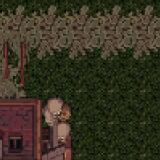Interaction: (0, 36, 38, 78)
Obstacle: (0, 65, 96, 160)
